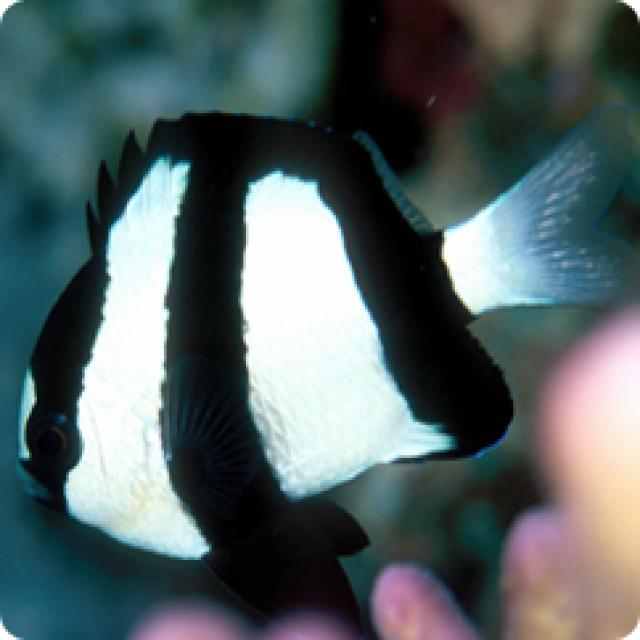ThreeStripedDamselfish: (16, 105, 640, 626)
